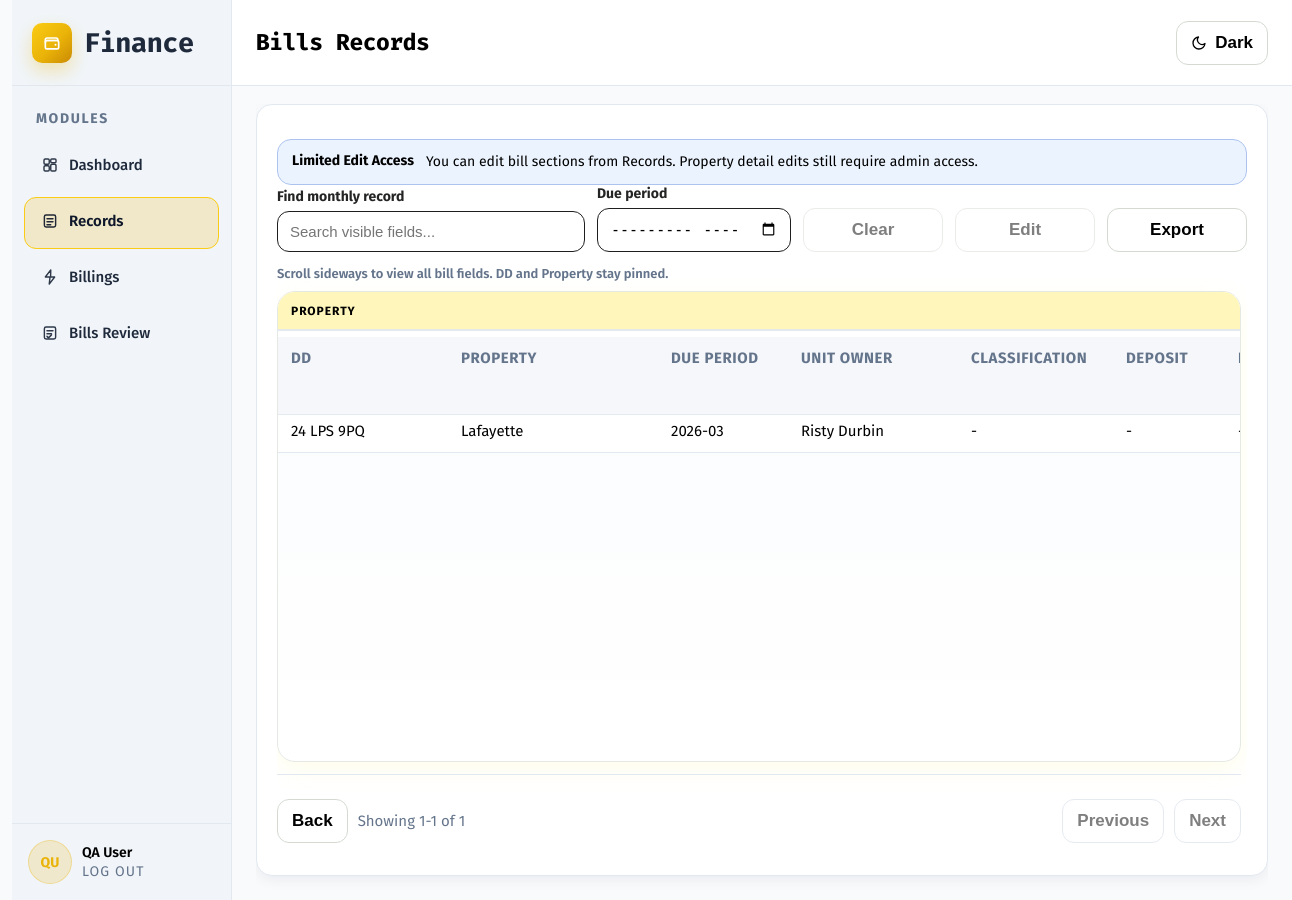
Test case: RecordsPage RBAC › lets editors pick bill targets while keeping property edits disabled
The image size is (1292, 900).
What coordinates should you click on to do the following:
click the text "24 LPS 9PQ"
I would click on:
 (363, 431)
Its box is [278, 409, 448, 452].
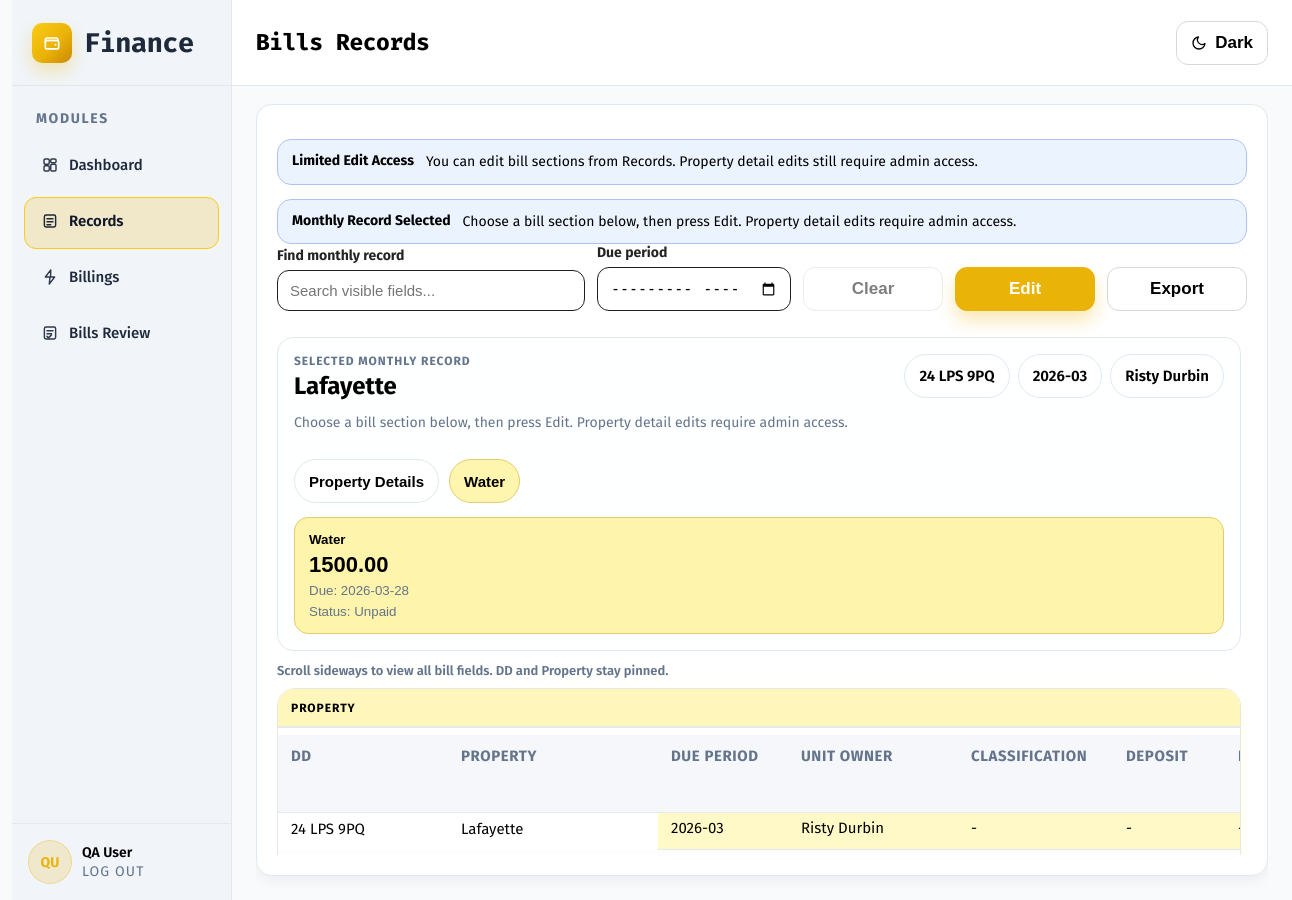
Check: the button "Edit" is enabled, box [955, 267, 1095, 311]
Check: the button with aria-label "edit property" is disabled, box [294, 459, 439, 503]
Check: the button with aria-label "edit water" is enabled, box [449, 459, 520, 503]
